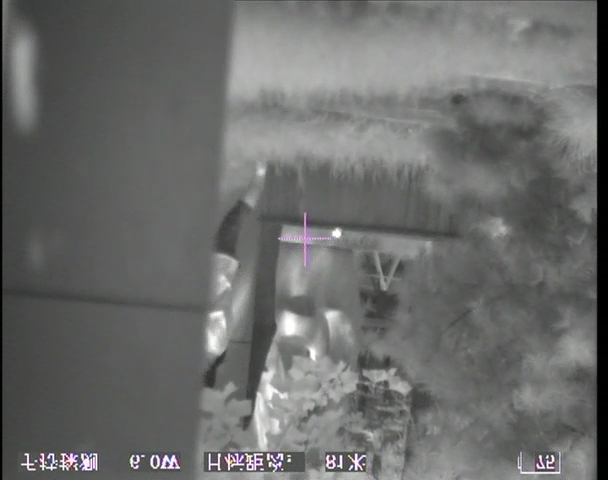my: (331, 226, 342, 238)
